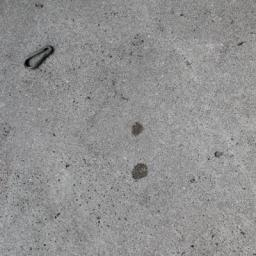FOD: (22, 44, 59, 77)
